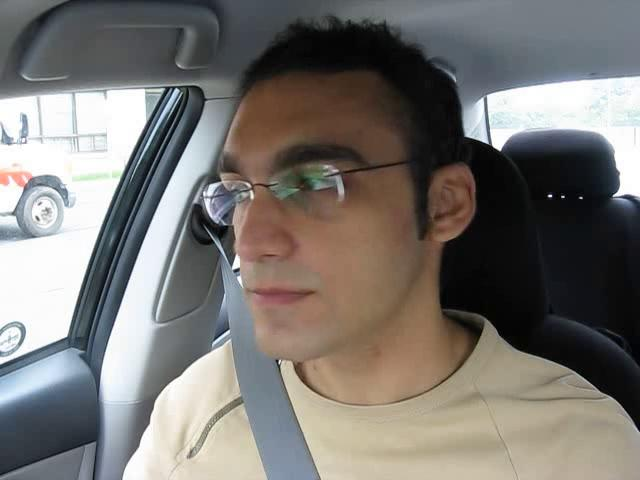no_yawn: (228, 271, 326, 323)
open_eyeL: (223, 175, 260, 213)
open_eyeR: (275, 154, 358, 211)
